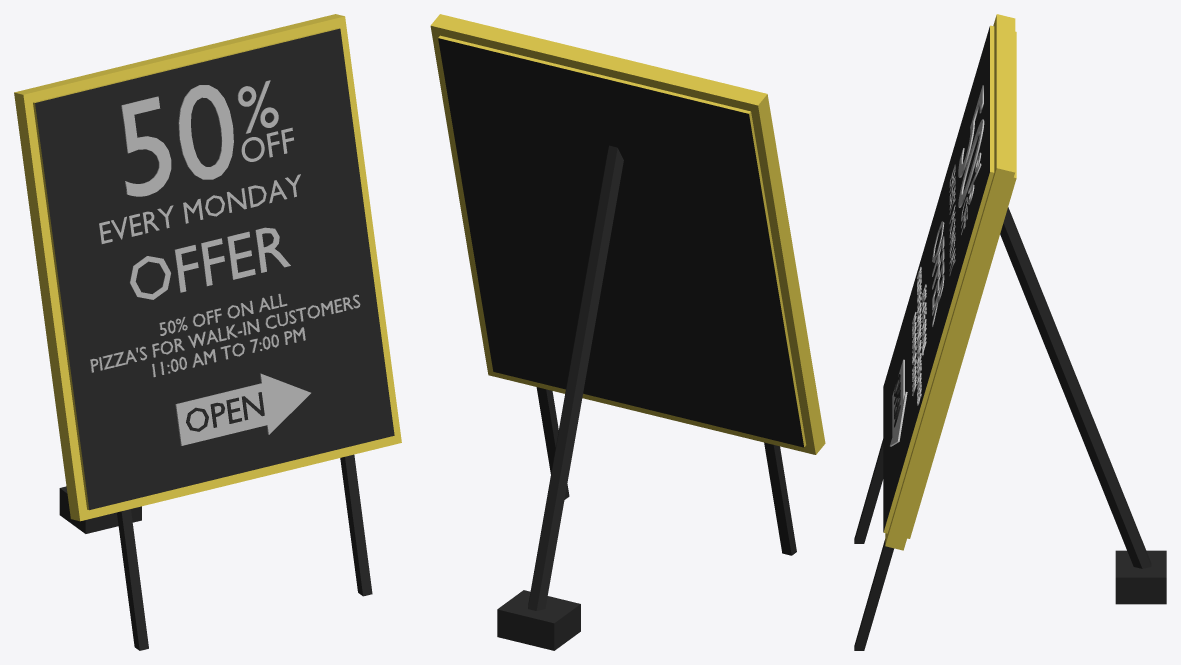
File: Offer_banner.fbx
3 renders of one model, left to right at view 1: azimuth 30°, elevation 25°; view 2: azimuth 150°, elevation 25°; view 3: azimuth 270°, elevation 25°, orthographic. The views are drawn at different scales.
Parts seen in each view (by area): view 1: Plane.009; view 2: Plane.009; view 3: Plane.009.
Boxes of the visible parts, bbox=[...] form: Plane.009: bbox=[14, 14, 401, 650]; Plane.009: bbox=[430, 14, 825, 650]; Plane.009: bbox=[854, 14, 1166, 650].
Size of the model in its own units: 77.7 by 119 by 66.59.
